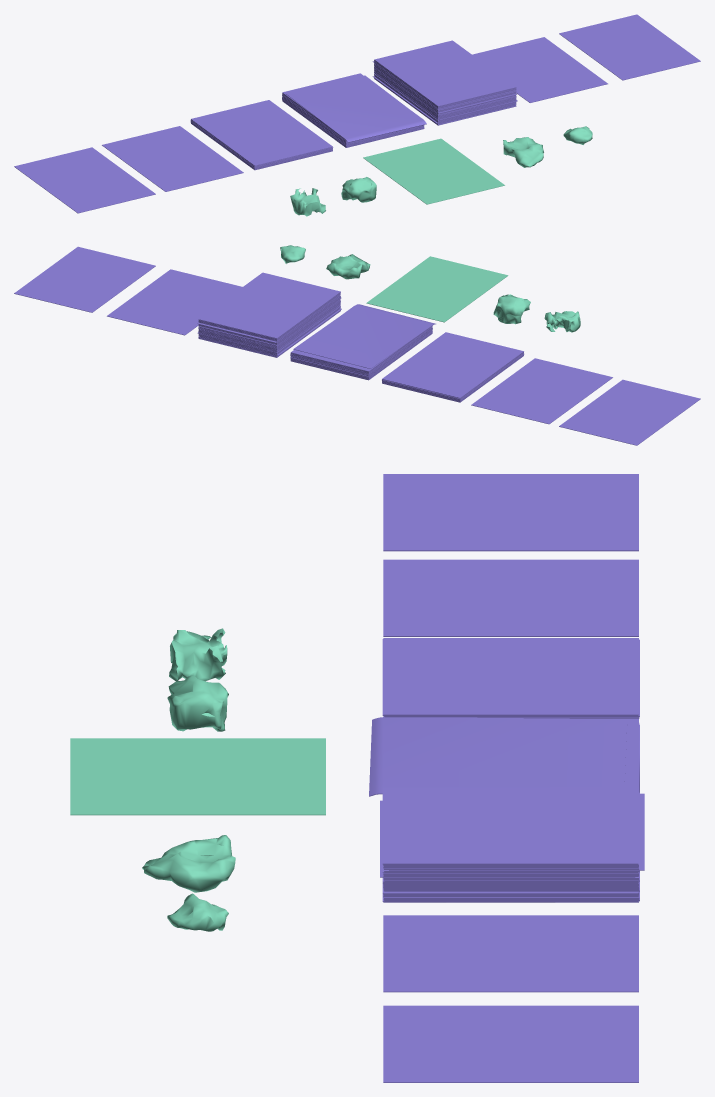
File: uploads_files_4684113_Papers_Marged_FBX.fbx
3 renders of one model, top to bottom at view 1: azimuth 30°, elevation 25°; view 2: azimuth 150°, elevation 25°; view 3: azimuth 270°, elevation 25°, orthographic. The views are drawn at different scales.
Visible parts, largest first — view 1: Plane134, Plane133, Plane132, Plane131, Plane007, Plane129, Plane130, Plane135, Sphere001, Sphere_005, Sphere_006, Sphere_004; view 2: Plane134, Plane133, Plane132, Plane007, Plane130, Plane129, Plane131, Plane135, Sphere_005, Sphere001, Sphere_006, Sphere_004; view 3: Plane134, Plane132, Plane135, Plane129, Plane130, Plane131, Plane007, Plane133, Sphere001, Sphere_005, Sphere_006, Sphere_004.
Part boxes in pixels (x1,y1,x2,y2): Plane134: (372,40,517,125); Plane133: (282,73,426,147); Plane132: (190,100,333,170); Plane131: (559,14,700,80); Plane007: (363,138,504,204); Plane129: (14,147,155,213); Plane130: (102,126,243,191); Plane135: (472,37,607,102); Sphere001: (503,137,543,167); Sphere_005: (341,177,376,202); Sphere_006: (290,188,325,216); Sphere_004: (563,126,592,144); Plane134: (197,272,341,357); Plane133: (290,304,435,380); Plane132: (382,332,524,402); Plane007: (366,256,508,322); Plane130: (471,358,612,424); Plane129: (559,379,700,445); Plane131: (14,246,155,312); Plane135: (107,269,242,335); Sphere_005: (493,294,530,324); Sphere001: (326,254,370,279); Sphere_006: (544,311,580,332); Sphere_004: (280,245,305,263); Plane134: (380,787,644,902); Plane132: (382,638,639,718); Plane135: (383,915,638,992); Plane129: (383,474,638,551); Plane130: (383,559,638,636); Plane131: (383,1005,638,1082); Plane007: (70,738,325,815); Plane133: (369,717,639,796); Sphere001: (142,835,235,892); Sphere_005: (167,674,228,731); Sphere_006: (169,628,227,681); Sphere_004: (167,893,228,931).
Bounding box in the file's own units: 167 × 7.85 × 66.72.
